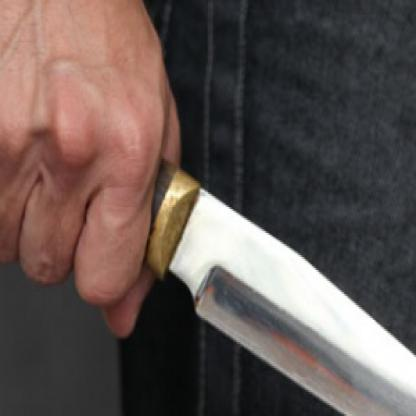knife: (0, 72, 415, 414)
